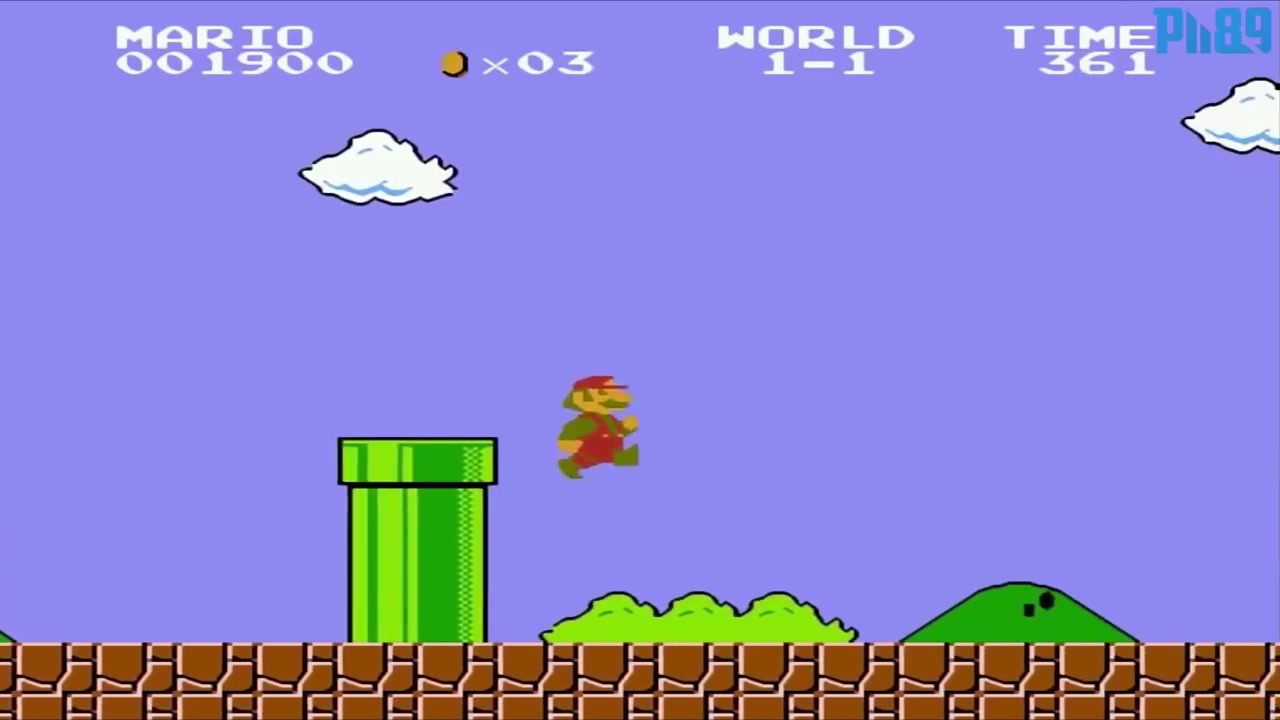mario: (550, 370, 649, 490)
